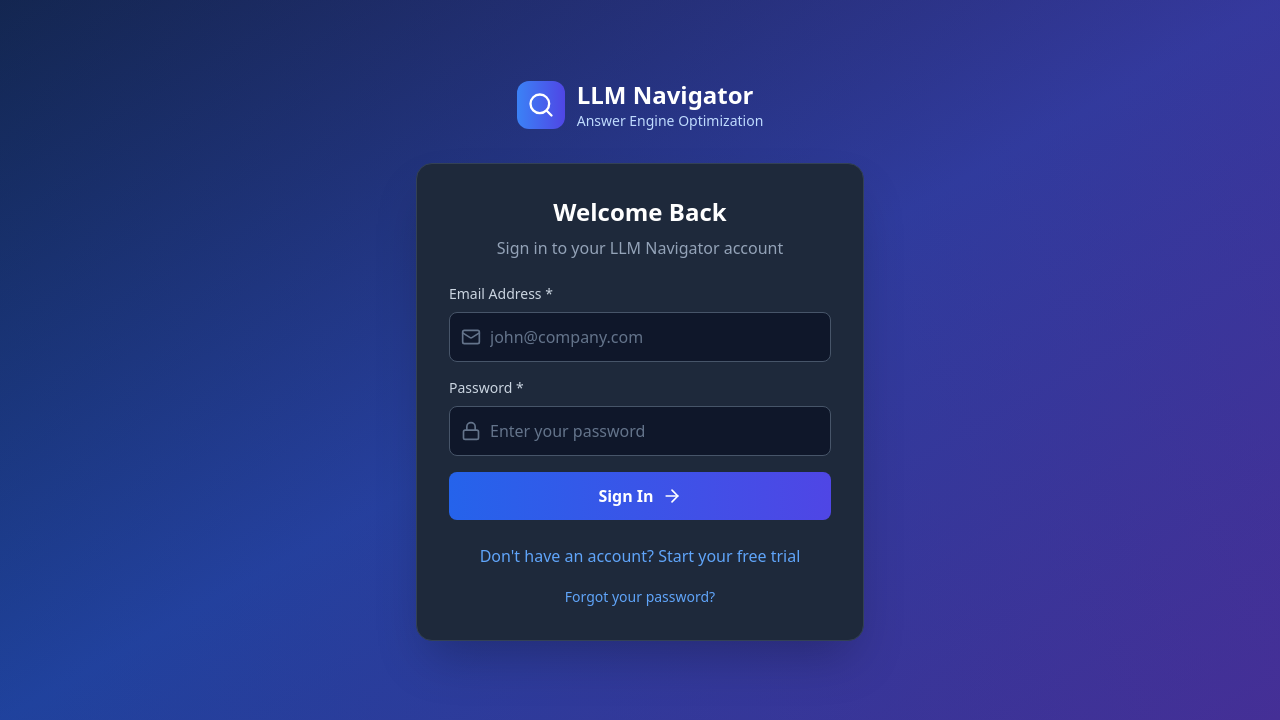
Test: AuthPage Component › Login Mode (Default) › should show error when logging in with non-existent email
Type "notfound@example.com" into the field with placeholder "john@company.com" at (640, 337), box 449,312 -> 831,362
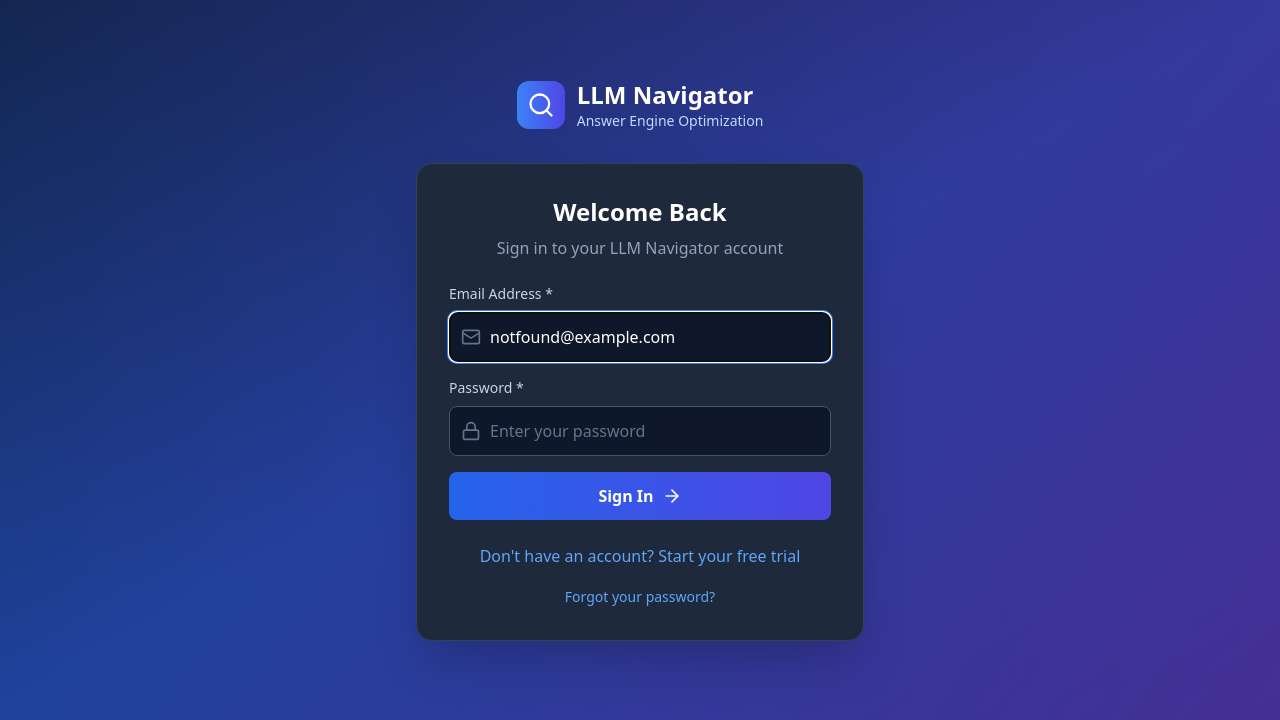
Type "password123" into the password field with placeholder "Enter your password" at (640, 431), box 449,406 -> 831,456
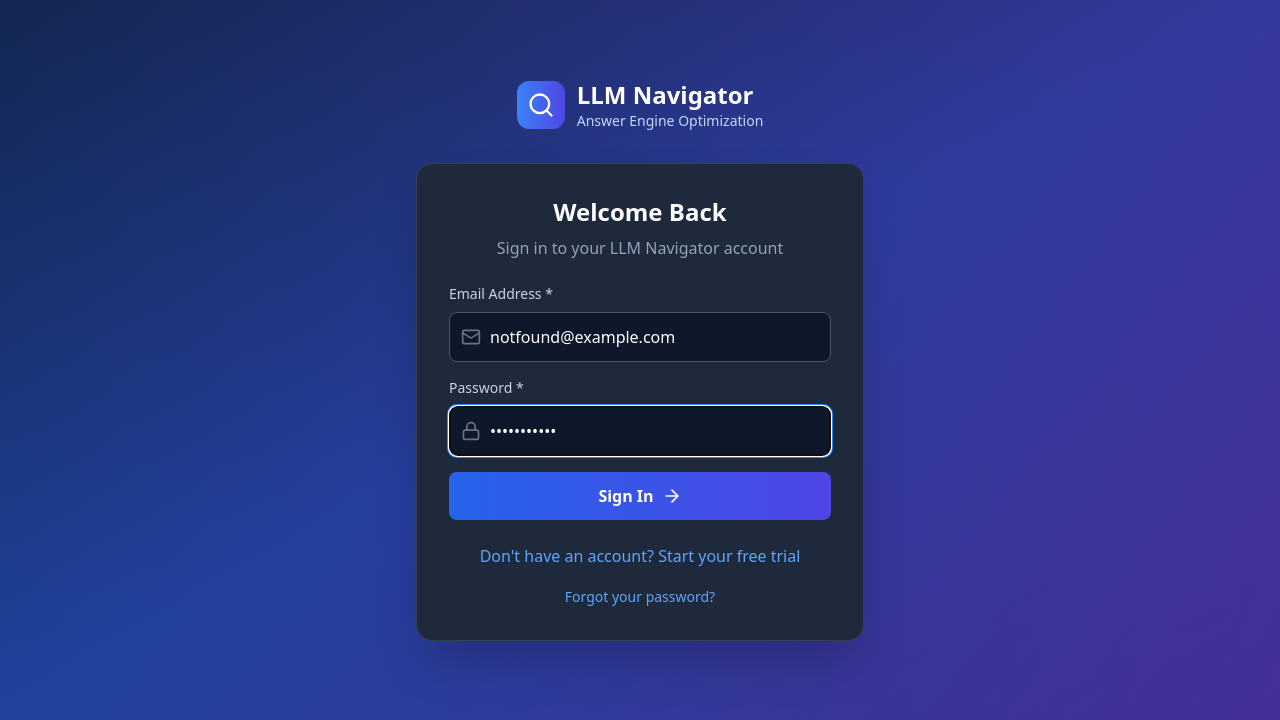
Click the button "Sign In" at (640, 496), box 449,472 -> 831,520
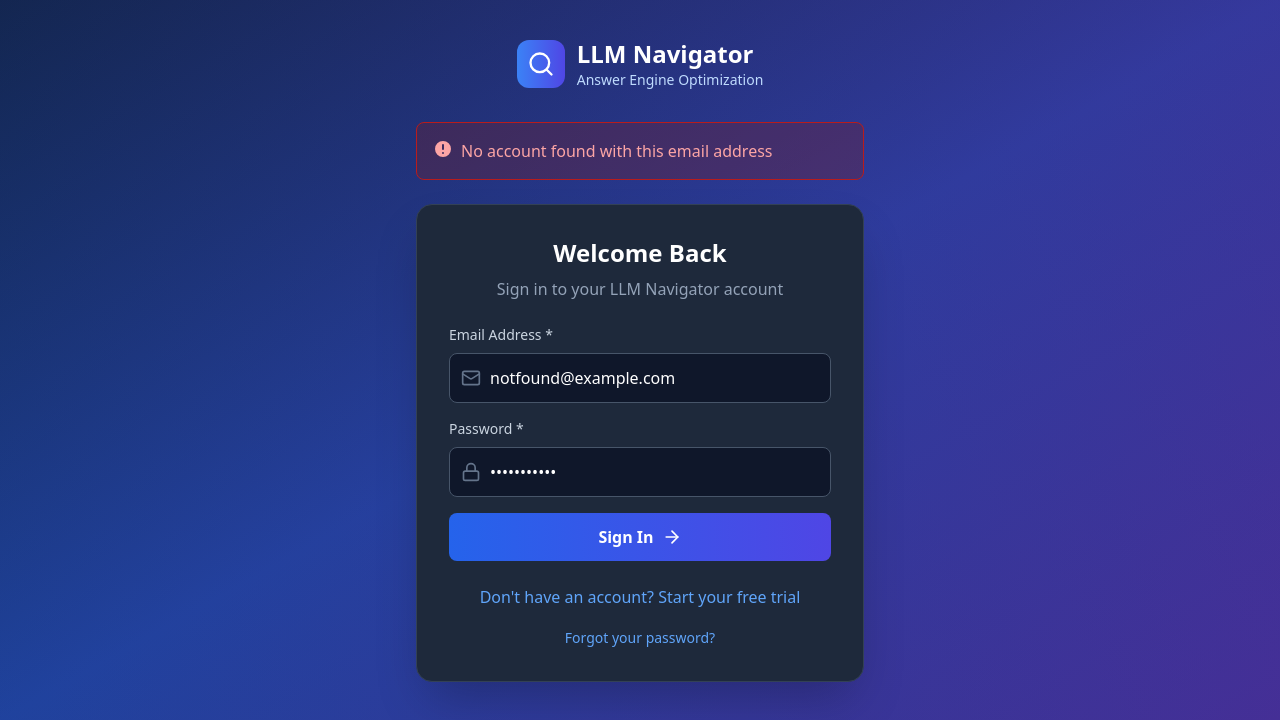
Check: the text "No account found with this email address" is shown, box 461,139 -> 772,163
